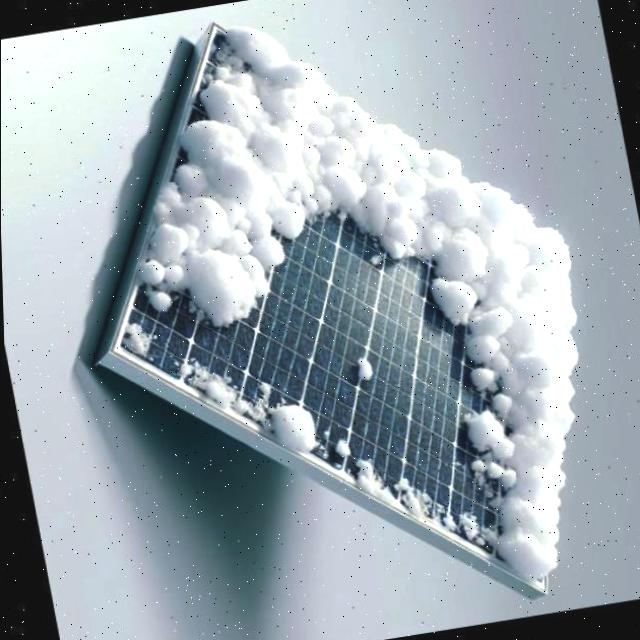Anomaly Solar Panel: (55, 22, 640, 586)
Snow: (55, 10, 640, 601), (165, 338, 328, 453), (120, 319, 156, 359), (320, 425, 357, 463), (346, 350, 380, 385)
